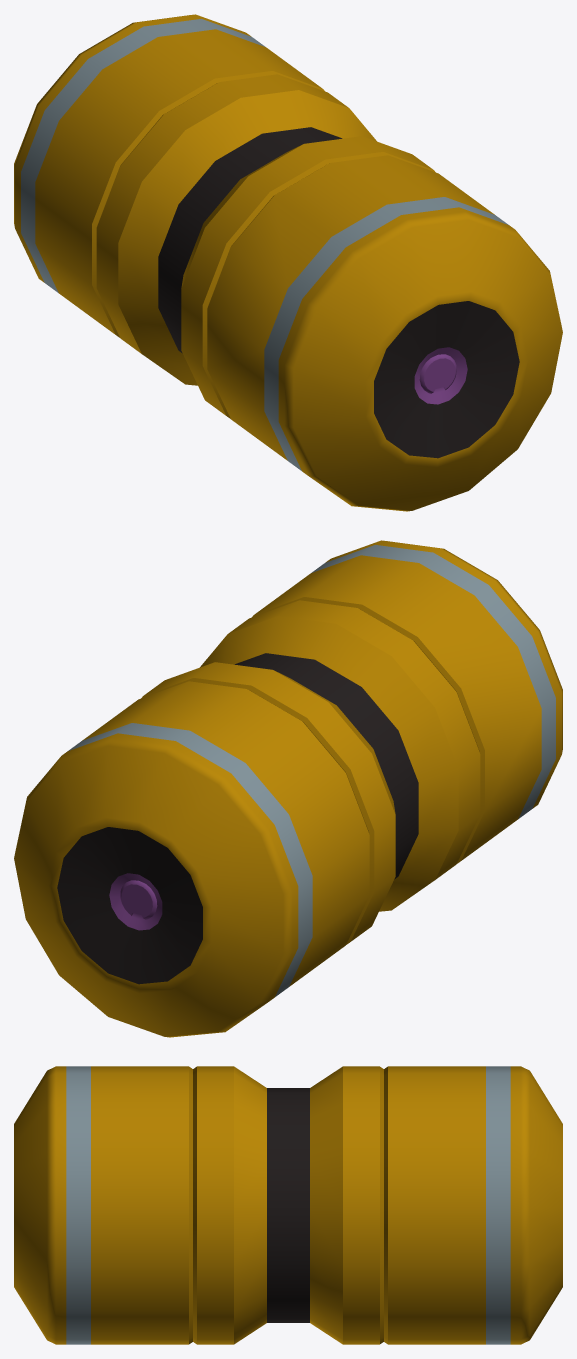
File: env_building_tank_lod2.fbx
The picture shows the model from 3 angles, top to bottom: view 1: azimuth 30°, elevation 25°; view 2: azimuth 150°, elevation 25°; view 3: azimuth 270°, elevation 25°; orthographic projection. The views are drawn at different scales.
Parts seen in each view (by area): view 1: env_building_tank_lod2; view 2: env_building_tank_lod2; view 3: env_building_tank_lod2.
Part boxes in pixels (x1,y1,x2,y2): env_building_tank_lod2: (14, 14, 562, 511); env_building_tank_lod2: (14, 540, 562, 1037); env_building_tank_lod2: (14, 1066, 562, 1344).
Size of the model in its own units: 245 by 246 by 486.
